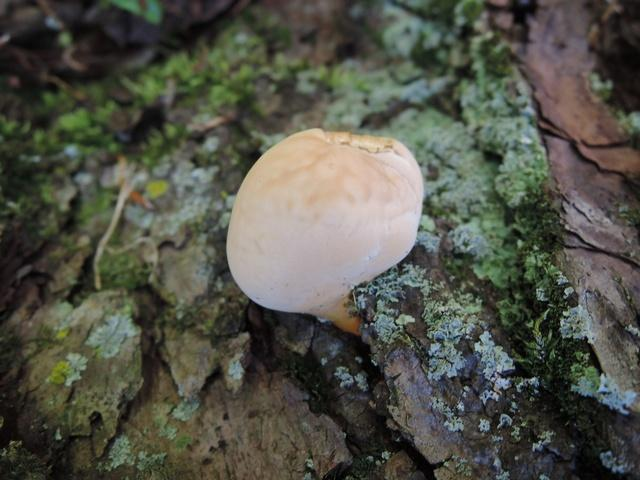Non-edible Mushroom: (224, 126, 425, 336)
